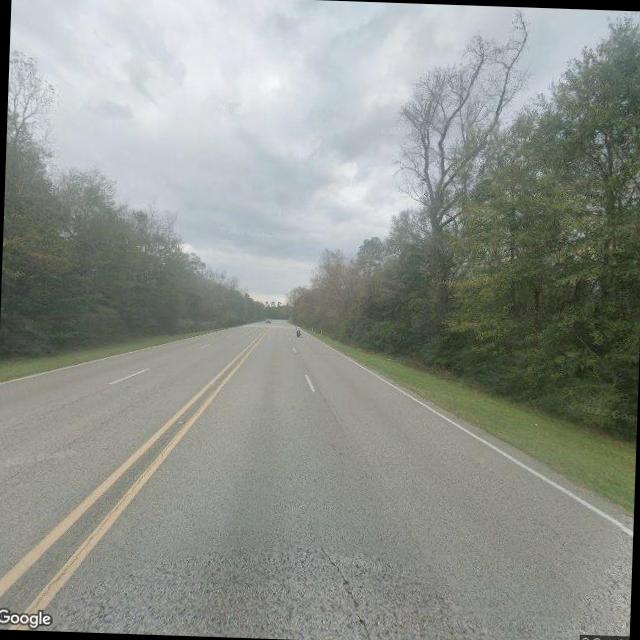crack: (313, 543, 382, 640)
